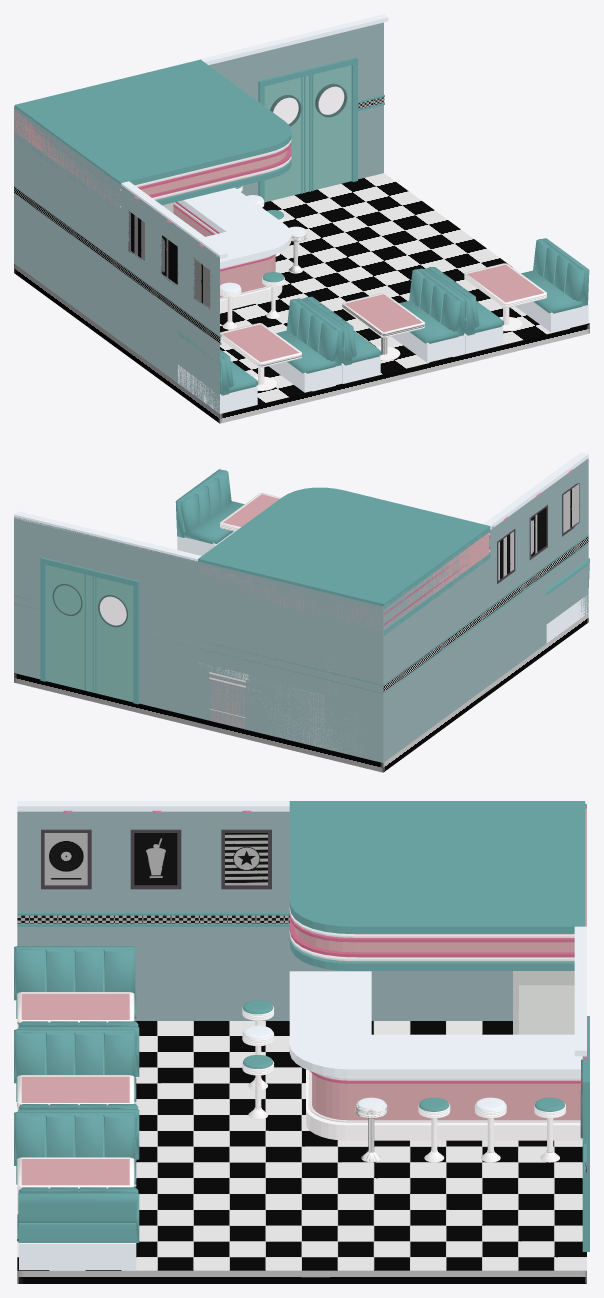
File: cafeteria.glb
3 renders of one model, top to bottom at view 1: azimuth 30°, elevation 25°; view 2: azimuth 150°, elevation 25°; view 3: azimuth 270°, elevation 25°, orthographic. The views are drawn at different scales.
Parts seen in each view (by area): view 1: Cubo, Cubo.013, Cubo.008, Cubo.065, Cilindro.007, Cubo.060, Cubo.061, Cubo.064; view 2: Cubo, Cubo.013, Cubo.008, Cubo.061, Cubo.060, Cubo.064; view 3: Cubo, Cubo.013, Cubo.065, Cubo.008, Cubo.060, Cubo.061, Cubo.064.
Part boxes in pixels (x1,y1,x2,y2): Cubo: (14,14,589,413); Cubo.013: (14,173,589,423); Cubo.008: (14,97,384,343); Cubo.065: (120,139,291,299); Cilindro.007: (258,226,424,366); Cubo.060: (194,259,209,308); Cubo.061: (162,235,177,284); Cubo.064: (129,211,144,260); Cubo: (14,452,589,762); Cubo.013: (14,613,588,772); Cubo.008: (383,536,588,692); Cubo.061: (531,507,546,556); Cubo.060: (563,484,578,532); Cubo.064: (498,531,513,580); Cubo: (14,801,589,1269); Cubo.013: (17,1021,586,1283); Cubo.065: (289,907,580,1122); Cubo.008: (17,915,586,1172); Cubo.060: (44,833,87,885); Cubo.061: (134,833,177,885); Cubo.064: (225,833,267,885).
Bounding box in the file's own units: 0.5633 × 0.2443 × 0.5472.
Materials: 8 (8 with a texture image).
